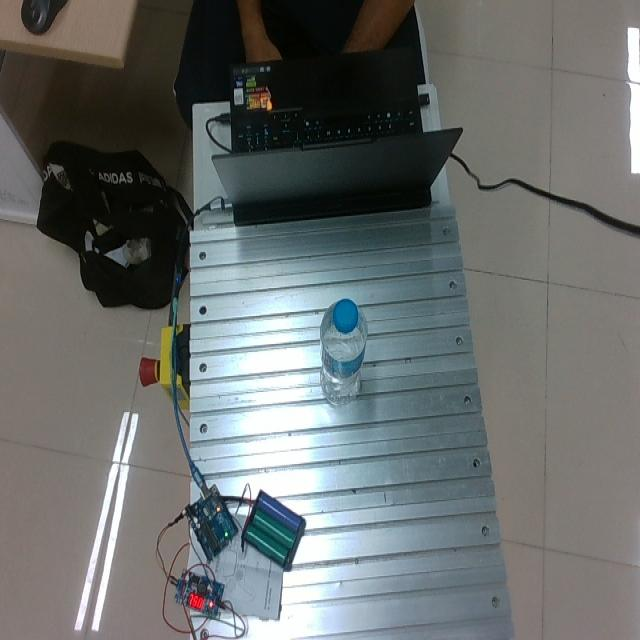lavie: (319, 297, 368, 404)
